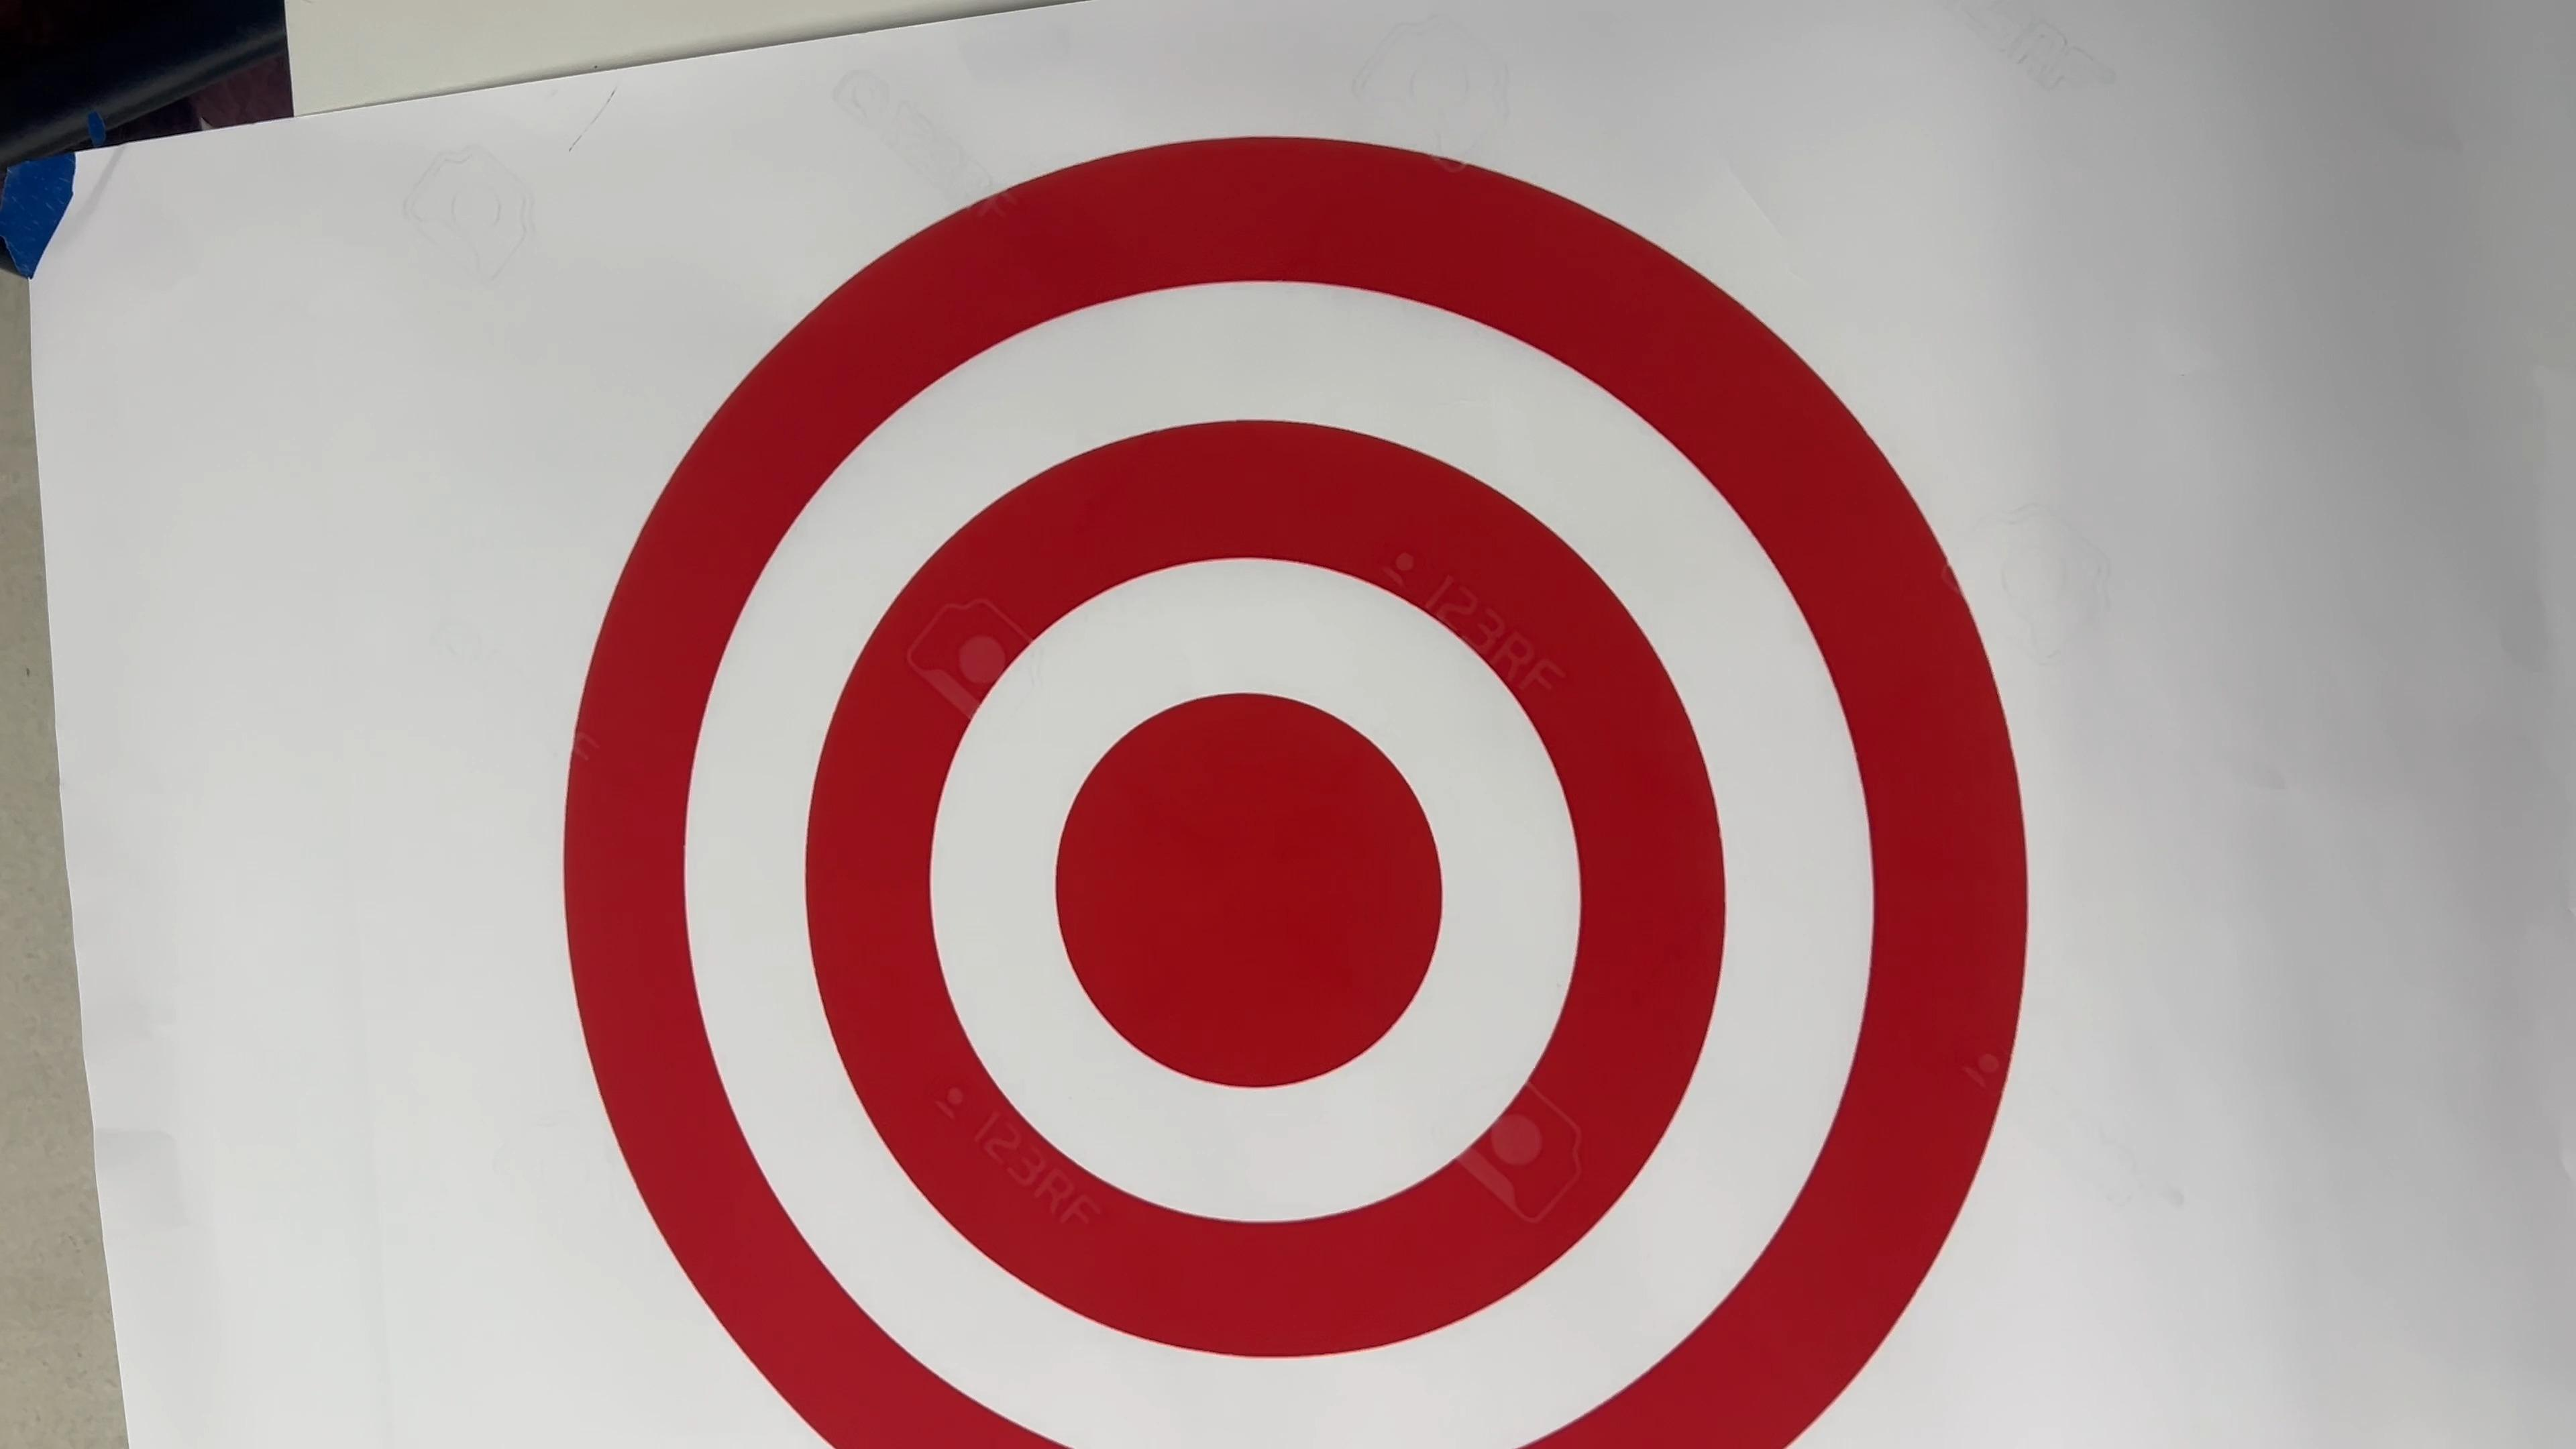target_red: (511, 115, 2058, 1449)
